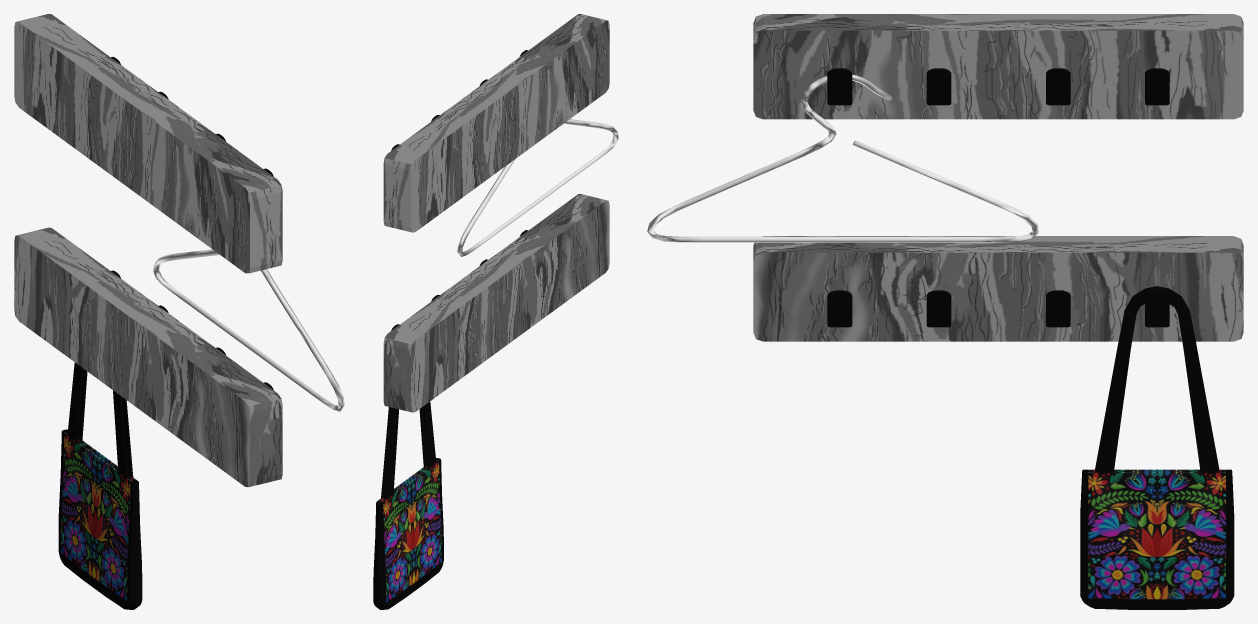
Rendered from perchero.glb.
3 views of the same model, side by side, from view 1: azimuth 30°, elevation 25°; view 2: azimuth 150°, elevation 25°; view 3: azimuth 270°, elevation 25° (orthographic). The views are drawn at different scales.
Parts seen in each view (by area): view 1: Cube.005, Cube.004; view 2: Cube.005, Cube.004; view 3: Cube.005, Cube.004.
Part boxes in pixels (left/top/right/bottom): Cube.005: left=14, top=14, right=344, bottom=487; Cube.004: left=58, top=362, right=142, bottom=609; Cube.005: left=383, top=14, right=618, bottom=412; Cube.004: left=373, top=401, right=443, bottom=609; Cube.005: left=647, top=14, right=1243, bottom=341; Cube.004: left=1080, top=286, right=1234, bottom=609.
Bounding box in the file's own units: 0.1772 × 1.54 × 1.45.
5 materials, 2 textured.
